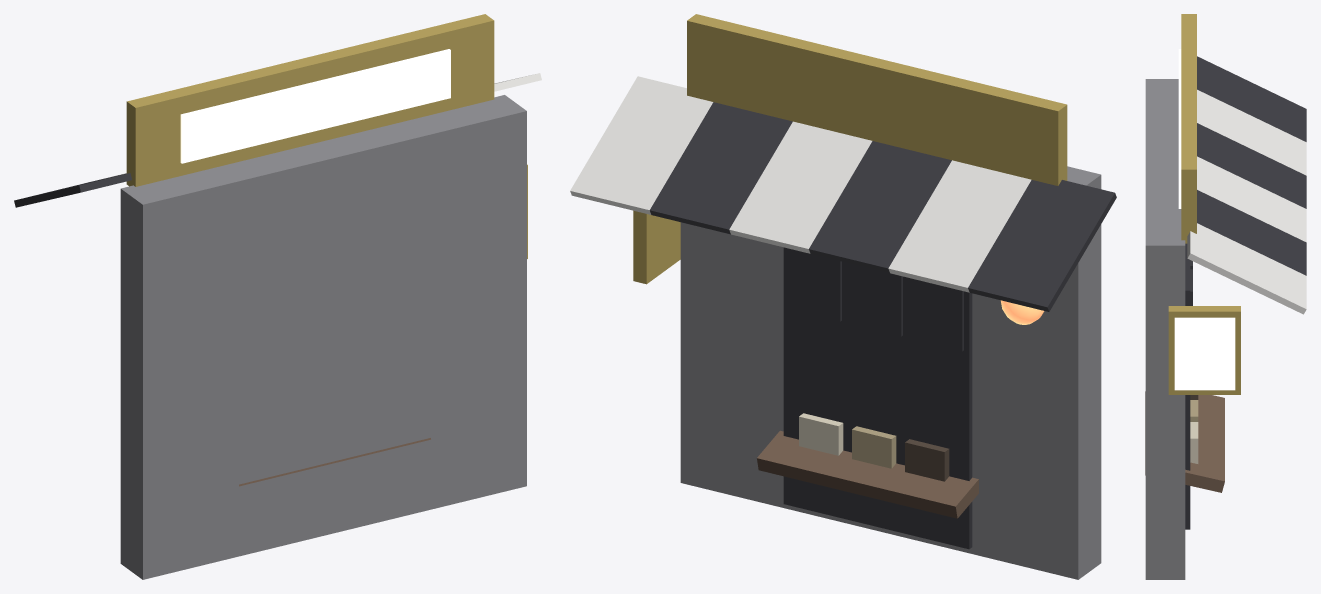
File: prop_mise_ginko.glb
3 renders of one model, left to right at view 1: azimuth 30°, elevation 25°; view 2: azimuth 150°, elevation 25°; view 3: azimuth 270°, elevation 25°, orthographic. The views are drawn at different scales.
Visible parts, largest first — view 1: mise_ginko; view 2: mise_ginko; view 3: mise_ginko.
Boxes of the visible parts, bbox=[...] form: mise_ginko: bbox=[14, 14, 541, 579]; mise_ginko: bbox=[570, 14, 1116, 579]; mise_ginko: bbox=[1145, 14, 1306, 579].
Size of the model in its own units: 3.6 by 3.39 by 1.23.
